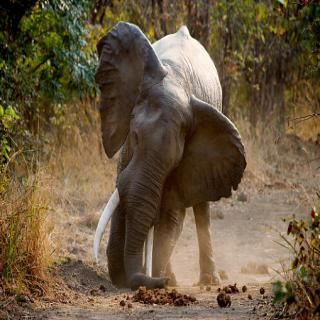Elephant: (90, 17, 251, 292)
